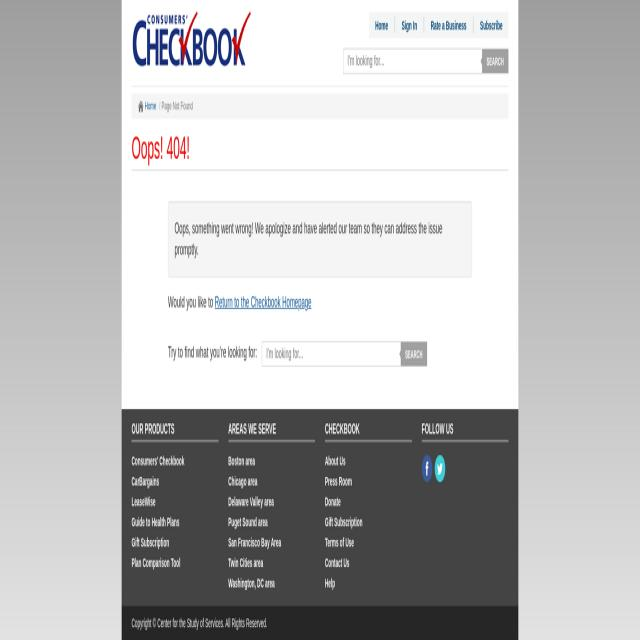button: (132, 5, 252, 75), (425, 13, 472, 38), (474, 13, 508, 38), (396, 13, 423, 38), (400, 342, 428, 366), (481, 49, 508, 73), (370, 13, 394, 38), (422, 451, 432, 487), (435, 451, 445, 487), (138, 99, 144, 113)
field: (262, 341, 427, 367), (343, 48, 482, 74)
